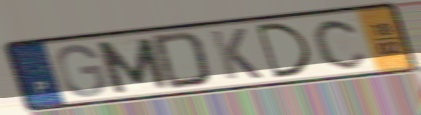C: (311, 17, 371, 72)
D: (149, 30, 214, 92), (252, 21, 315, 80)
G: (53, 42, 110, 99)
K: (207, 27, 266, 82)
M: (92, 35, 172, 96)
